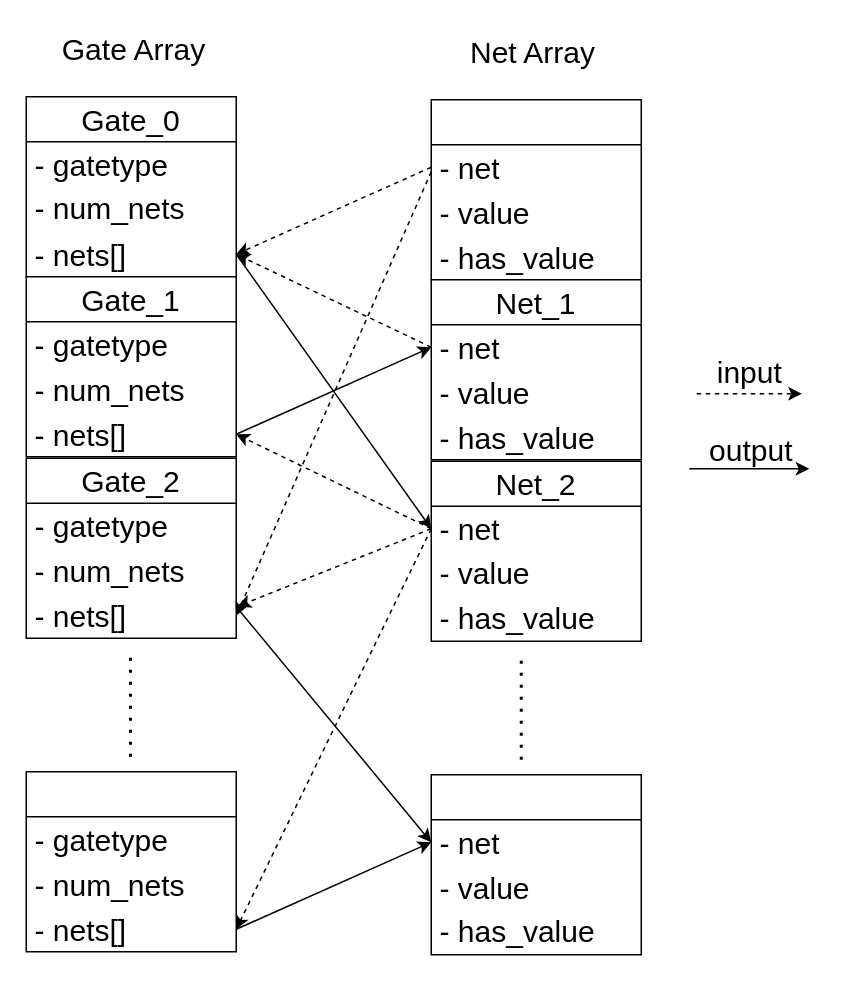
Some shapes in this 848 by 1008 pixel diagram are drawn without their labels. Each missing label, with the box of its shape:
Gate_N: (25, 770, 236, 952)
Net_0: (430, 98, 641, 280)
Net_M: (430, 773, 641, 955)
